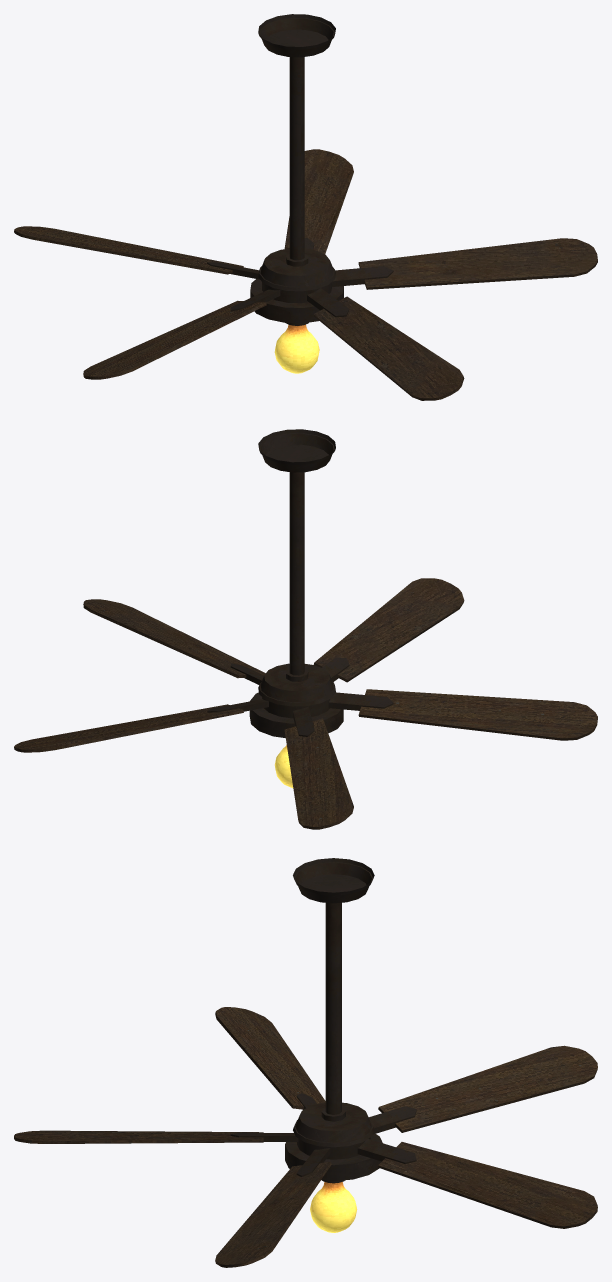
Rendered from ceiling_fan_mp_2_1_light_on.glb.
The picture shows the model from 3 angles, top to bottom: view 1: azimuth 30°, elevation 25°; view 2: azimuth 150°, elevation 25°; view 3: azimuth 270°, elevation 25°; orthographic projection. The views are drawn at different scales.
Visible parts, largest first — view 1: ceiling_fan_mp_2_1_light_on_blades, ceiling_fan_mp_2_1_light_on; view 2: ceiling_fan_mp_2_1_light_on_blades, ceiling_fan_mp_2_1_light_on; view 3: ceiling_fan_mp_2_1_light_on_blades, ceiling_fan_mp_2_1_light_on.
Boxes of the visible parts, <box> form: ceiling_fan_mp_2_1_light_on_blades: <box>14,149,597,400</box>; ceiling_fan_mp_2_1_light_on: <box>250,14,343,373</box>; ceiling_fan_mp_2_1_light_on_blades: <box>14,578,597,829</box>; ceiling_fan_mp_2_1_light_on: <box>249,429,343,788</box>; ceiling_fan_mp_2_1_light_on_blades: <box>14,1007,597,1267</box>; ceiling_fan_mp_2_1_light_on: <box>285,858,382,1232</box>.
Size of the model in its own units: 1.11 by 0.7128 by 1.06.
Materials: 3 (3 with a texture image).
